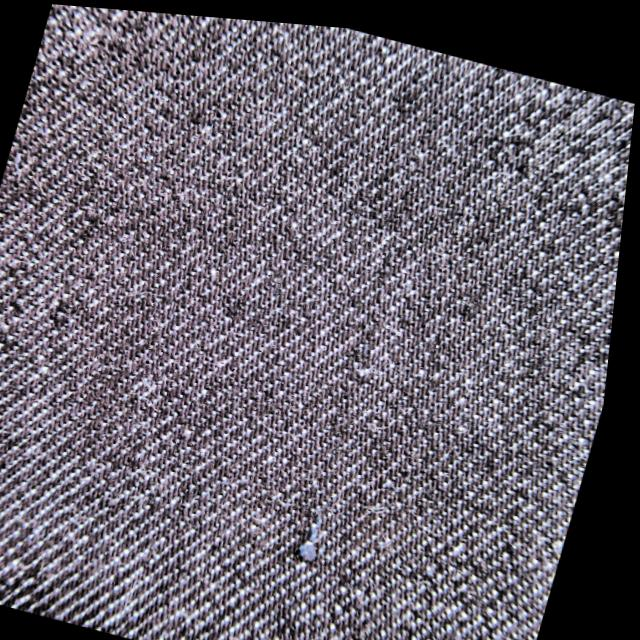Hole: (260, 477, 381, 603)
